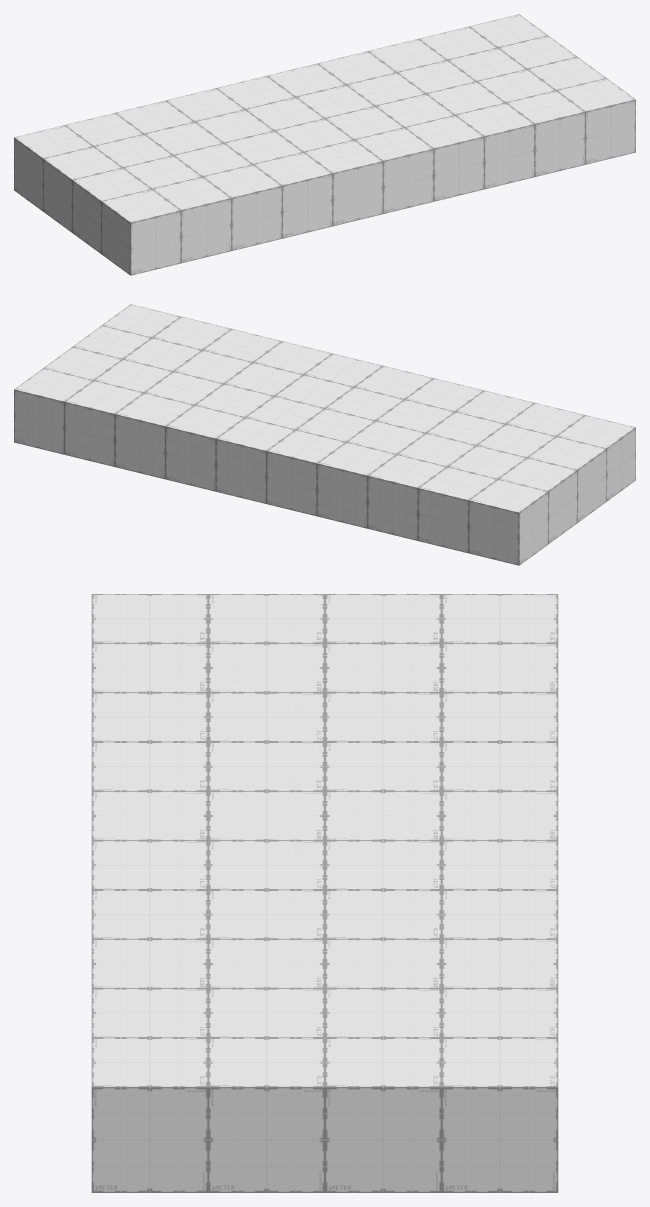
The model's file is ProB_Floor_10x4.fbx.
3 views of the same model, one above another, from view 1: azimuth 30°, elevation 25°; view 2: azimuth 150°, elevation 25°; view 3: azimuth 270°, elevation 25° (orthographic). The views are drawn at different scales.
Visible parts, largest first — view 1: ProB_Floor_10x4; view 2: ProB_Floor_10x4; view 3: ProB_Floor_10x4.
Part boxes in pixels (box(x1,y1,x2,y2)): ProB_Floor_10x4: box(14, 14, 635, 275); ProB_Floor_10x4: box(14, 304, 635, 565); ProB_Floor_10x4: box(91, 594, 558, 1192).
Bounding box in the file's own units: 1000 × 100 × 400.
